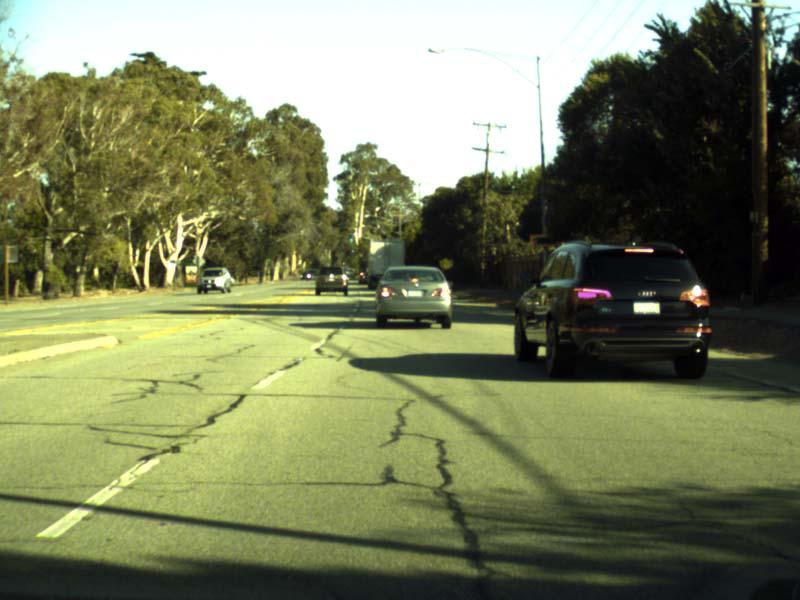Green: (347, 234, 352, 243)
